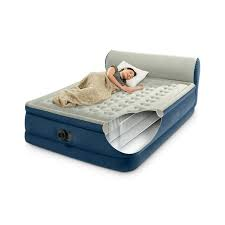bed-matress: (25, 50, 205, 172)
